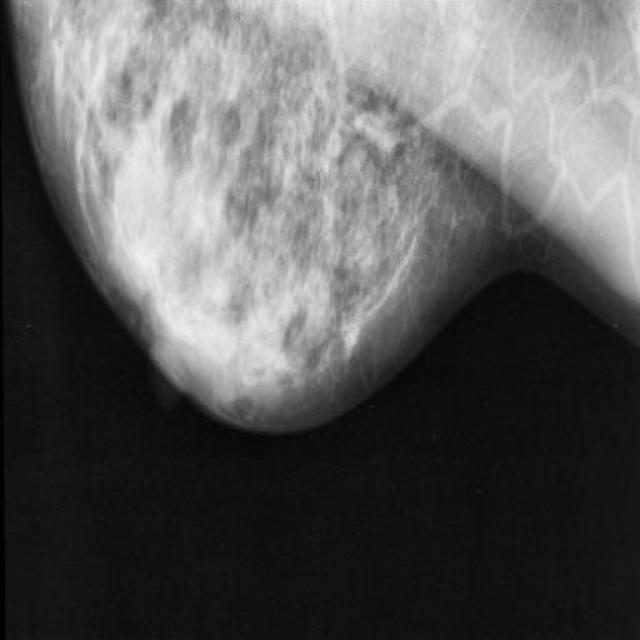cancer: (347, 94, 374, 154)
